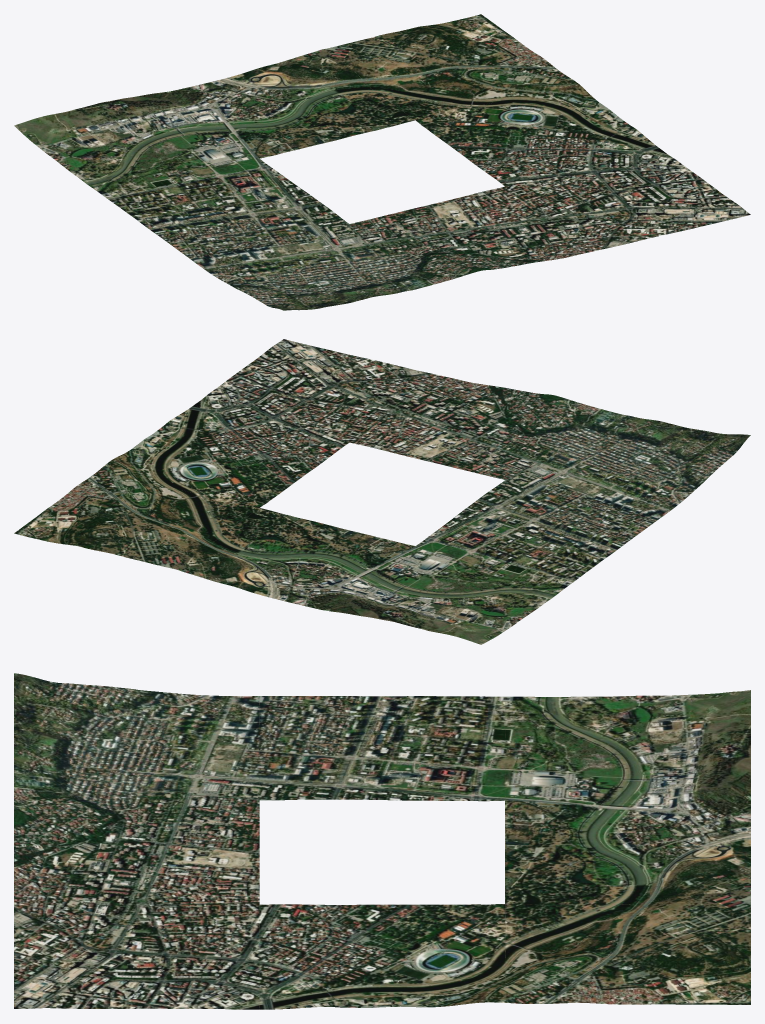
File: terrain_backdrop.dae
The picture shows the model from 3 angles, top to bottom: view 1: azimuth 30°, elevation 25°; view 2: azimuth 150°, elevation 25°; view 3: azimuth 270°, elevation 25°; orthographic projection. The views are drawn at different scales.
Visible parts, largest first — view 1: terrain_NW, terrain_NE, terrain_N, terrain_E, terrain_W, terrain_SE, terrain_S, terrain_SW; view 2: terrain_SW, terrain_S, terrain_W, terrain_SE, terrain_E, terrain_N, terrain_NE, terrain_NW; view 3: terrain_SW, terrain_S, terrain_SE, terrain_W, terrain_NW, terrain_NE, terrain_E, terrain_N.
Boxes of the visible parts, x1,y1,x2,y2 form: terrain_NW: (14,91,259,195); terrain_NE: (326,14,570,120); terrain_N: (170,49,414,158); terrain_E: (416,78,660,186); terrain_W: (104,158,348,261); terrain_SE: (505,149,750,250); terrain_S: (350,186,594,282); terrain_SW: (194,224,438,310); terrain_SW: (506,407,750,517); terrain_S: (350,375,594,479); terrain_W: (415,480,660,583); terrain_SE: (194,339,438,442); terrain_E: (104,405,349,507); terrain_N: (170,508,414,610); terrain_NE: (14,466,258,567); terrain_NW: (326,546,570,644); terrain_SW: (14,673,259,800); terrain_S: (14,791,259,904); terrain_SE: (14,903,259,1009); terrain_W: (259,696,505,801); terrain_NW: (505,690,750,801); terrain_NE: (505,896,750,1004); terrain_E: (259,904,505,1009); terrain_N: (505,796,750,904).
Size of the model in its own units: 3072 by 3072 by 116.
8 materials, 8 textured.
